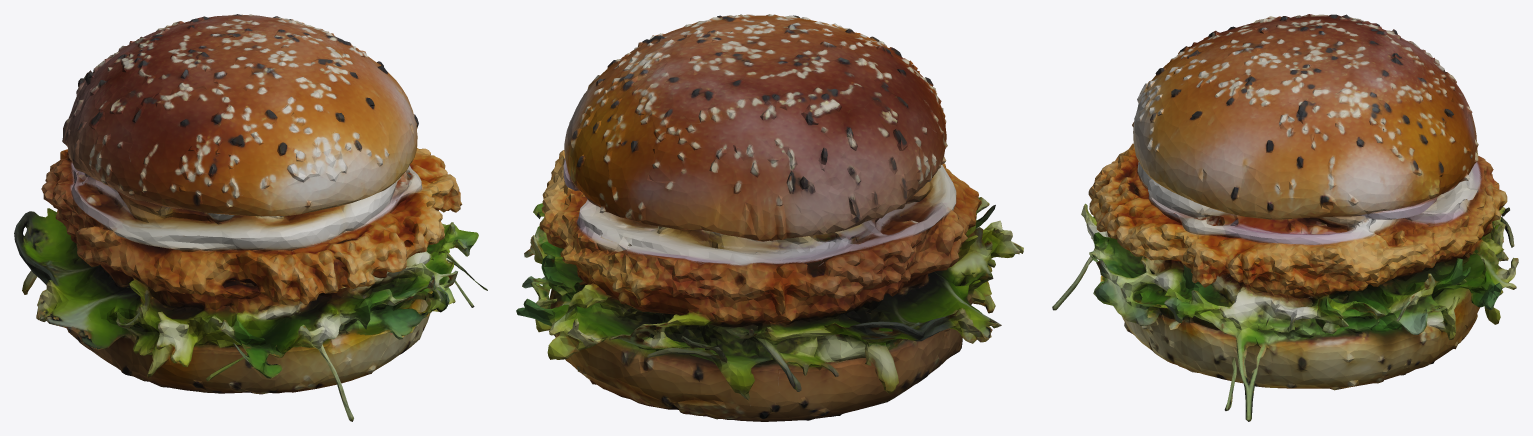
Rendered from chickenburger.glb.
3 views of the same model, side by side, from view 1: azimuth 30°, elevation 25°; view 2: azimuth 150°, elevation 25°; view 3: azimuth 270°, elevation 25° (orthographic). The views are drawn at different scales.
Visible parts, largest first — view 1: world; view 2: world; view 3: world.
Boxes of the visible parts, <box> form: world: <box>14,14,487,421</box>; world: <box>516,14,1023,421</box>; world: <box>1052,14,1518,421</box>.
Size of the model in its own units: 0.9961 by 0.6304 by 0.9669.
1 material, 1 textured.
